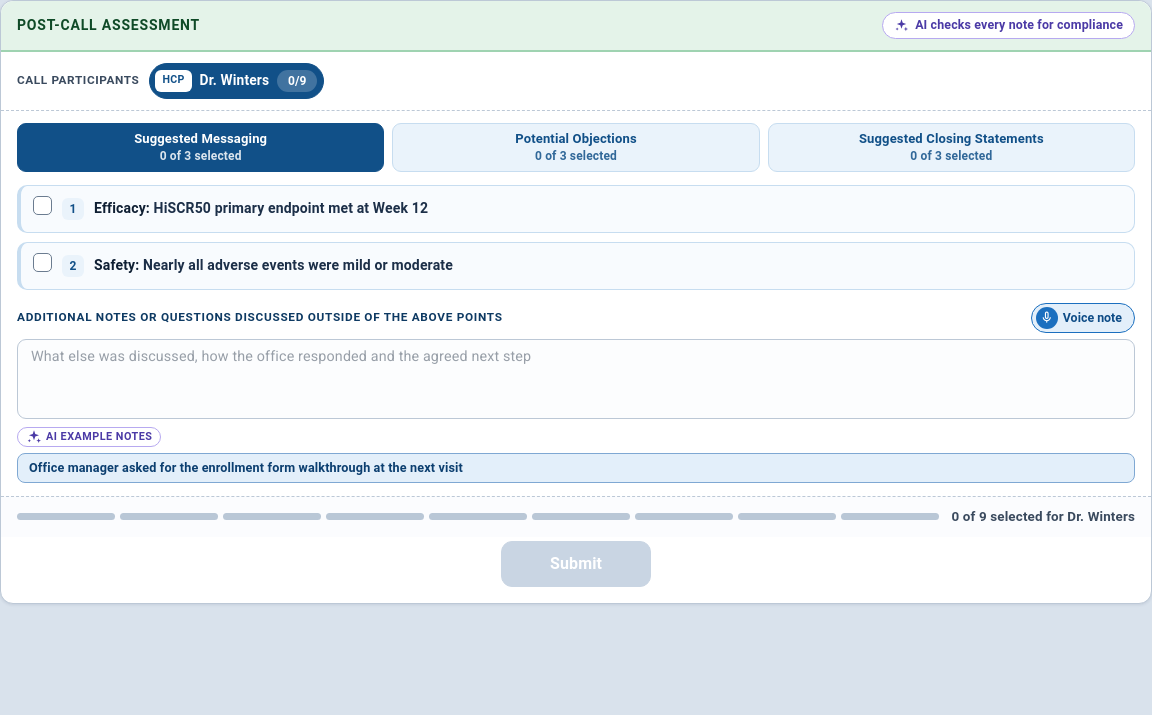
Test: Post-Call Assessment › an AI example note fills the field, can be edited, and is checked
The width and height of the screenshot is (1152, 715).
Click the checkbox named "Raised on the call: HiSCR50 primary endpoint met at Week 12".
click(42, 209)  # box [33,196,52,222]
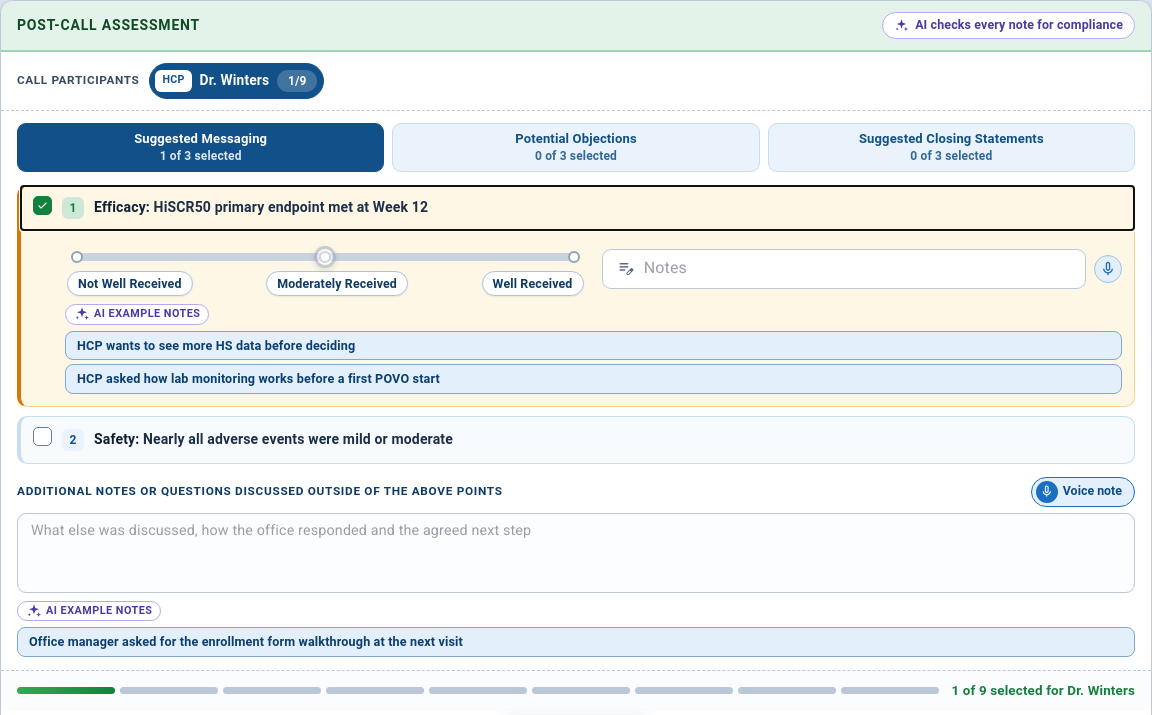
Expected: the 1st text "AI example notes" is shown, [65,304,209,325]
Click the button "HCP asked how lab monitoring works before a first POVO start".
click(258, 379)  # box [65,364,1122,394]
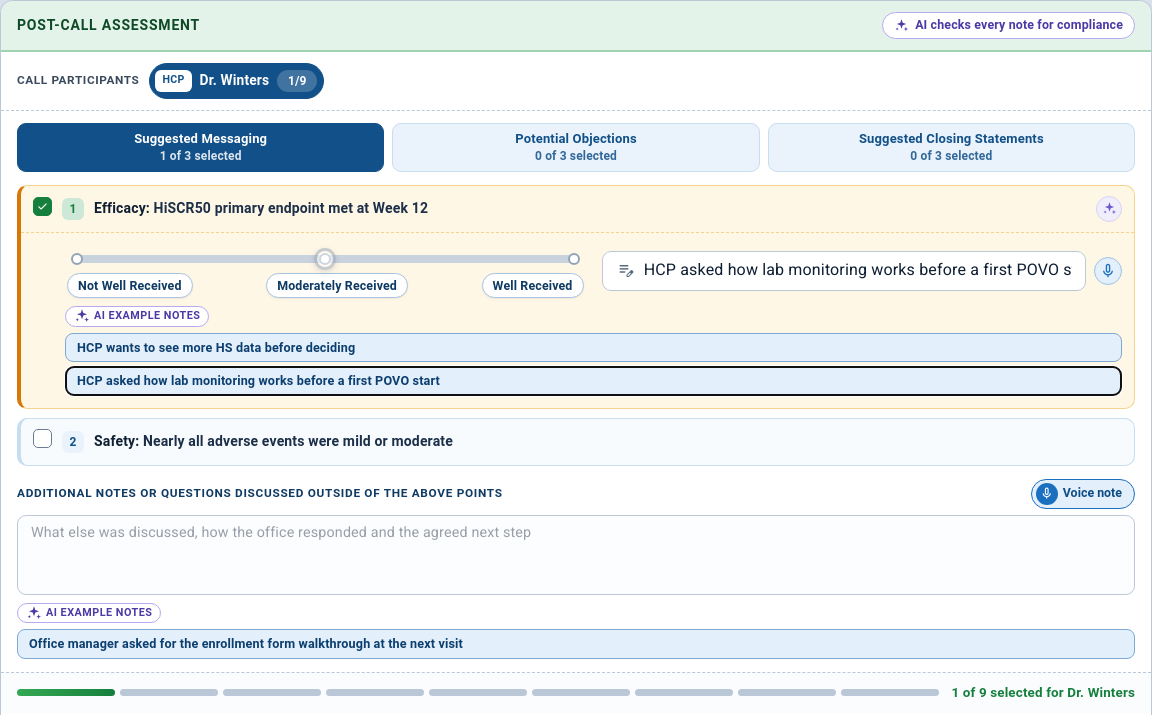
Expected: the field with placeholder "Notes" holds "HCP asked how lab monitoring works before a first POVO start"
Type " and the boxed warning" into the field with placeholder "Notes".
click(865, 271); type(" and the boxed warning")  # box [644,251,1086,291]
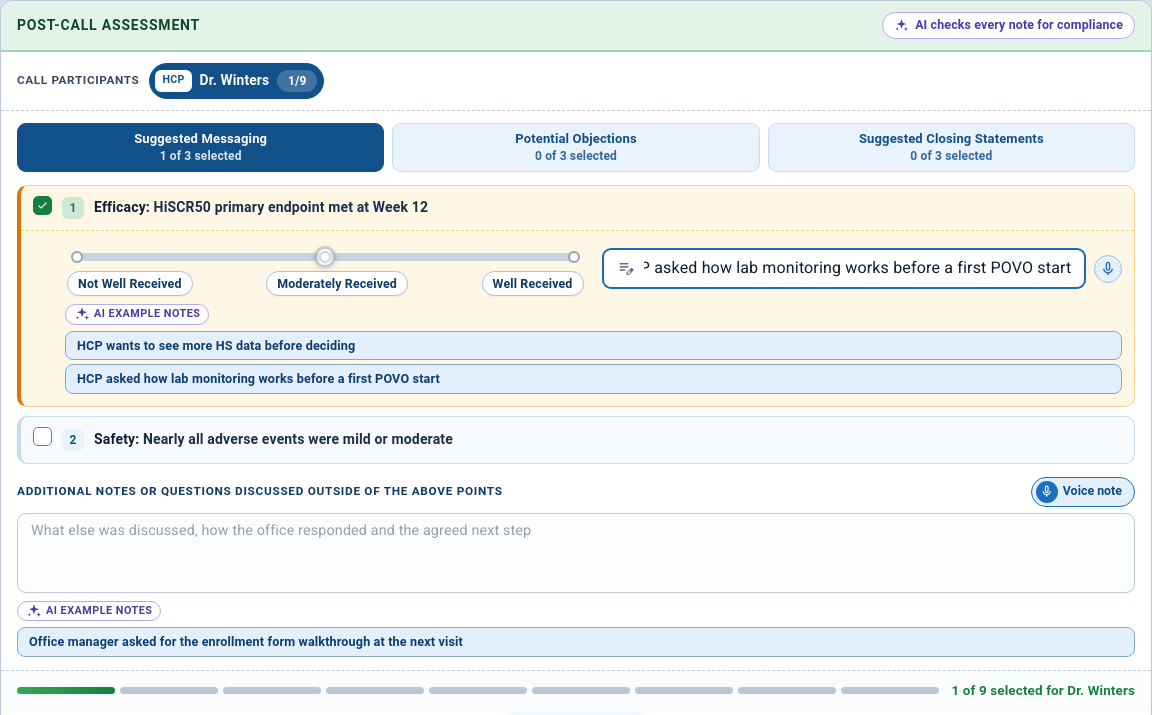
Expected: the field with placeholder "Notes" holds "HCP asked how lab monitoring works before a first POVO start and the boxed warning", [644,249,1086,289]
